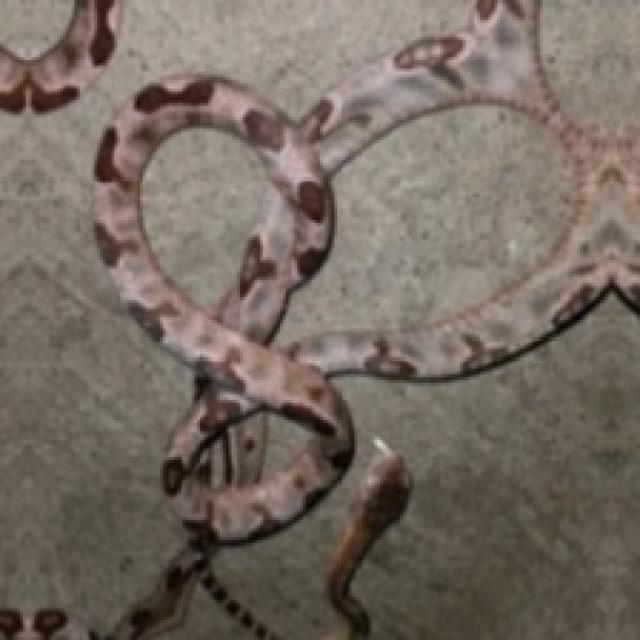dog-toothed cat snake: (92, 0, 640, 640), (321, 441, 411, 639), (0, 0, 122, 112), (0, 610, 95, 640)
